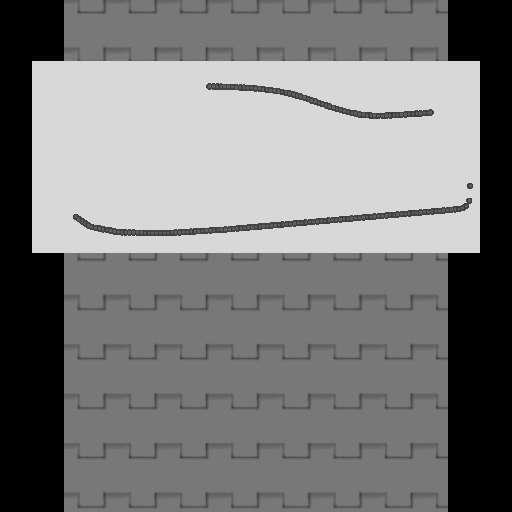Defect: (64, 75, 208, 212)
